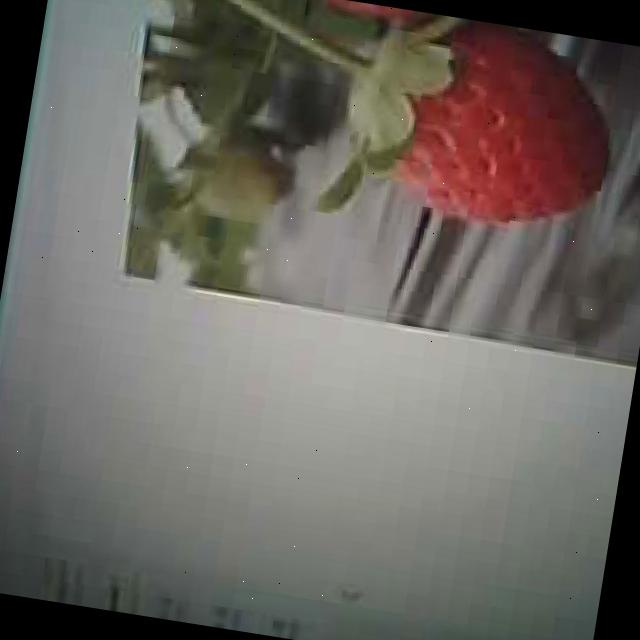strawberry: (360, 14, 626, 242), (181, 128, 284, 227)
